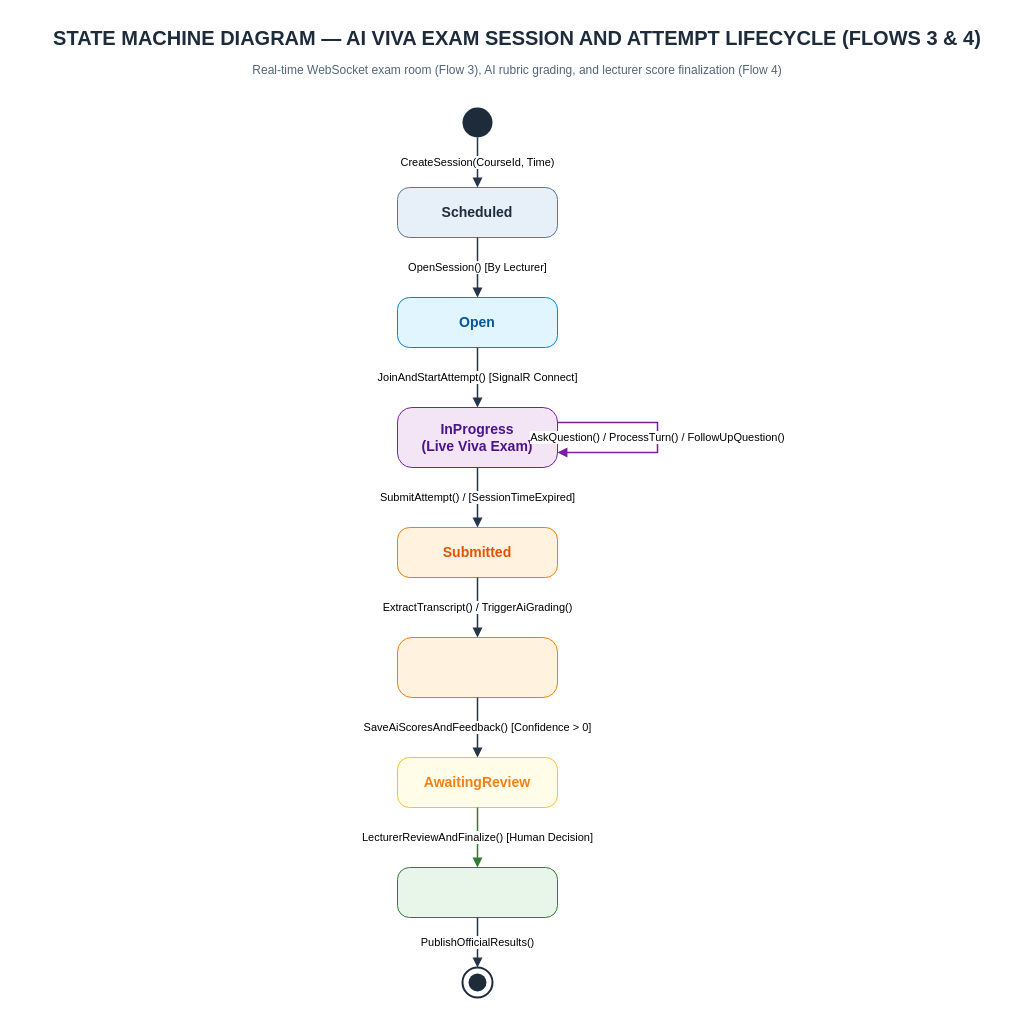
Some shapes in this 1034 by 1015 pixel diagram are drawn without their labels. The centre of each missing label's shape, as x and y in pixels:
Evaluating (AI Rubric Scoring): pixel 477 667
Finalized: pixel 477 892
